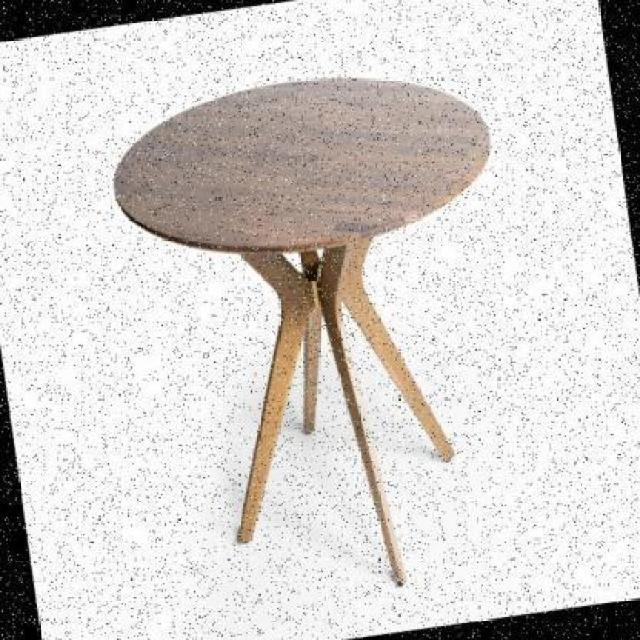tables: (111, 76, 491, 584)
